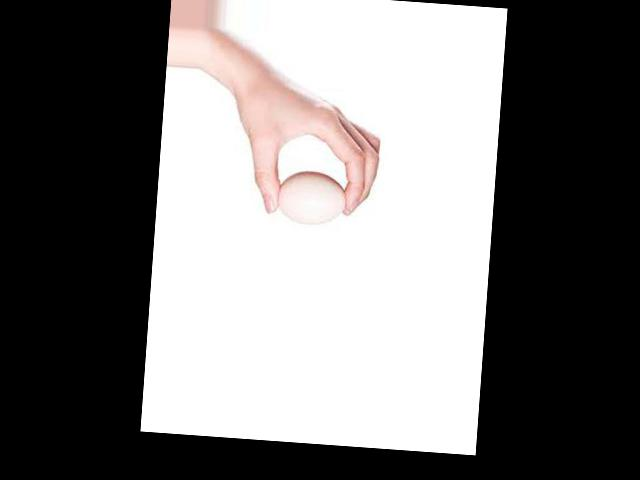egg: (275, 169, 347, 226)
